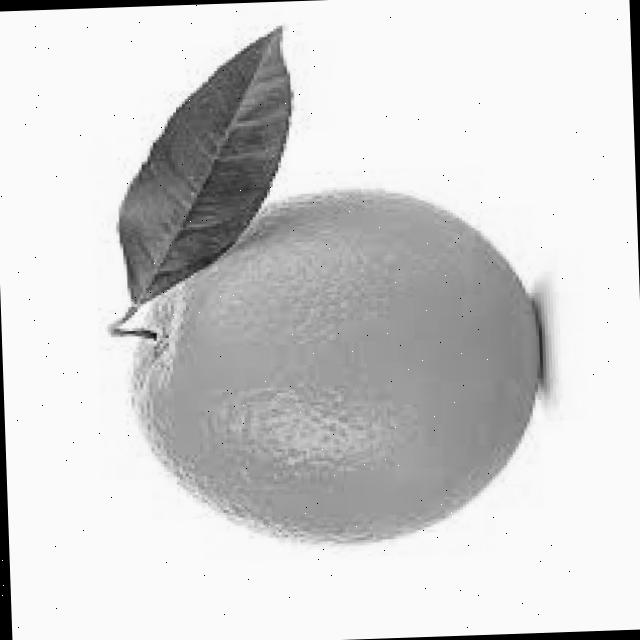Ripe: (113, 179, 554, 560)
